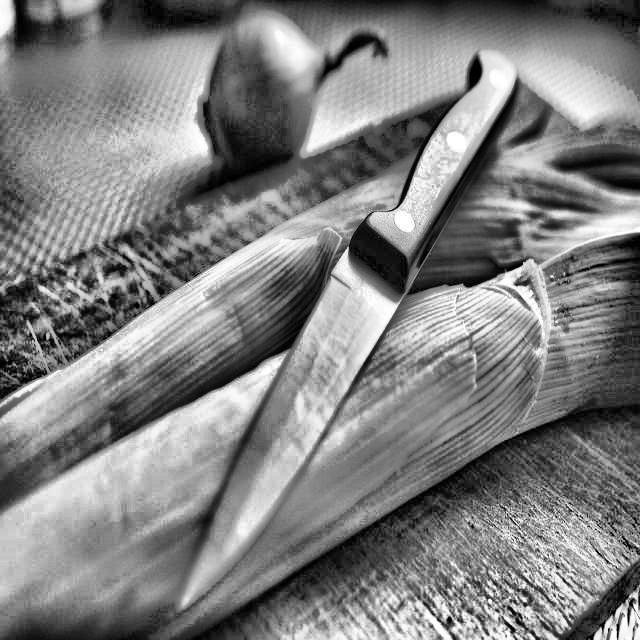knife: (178, 42, 524, 608)
